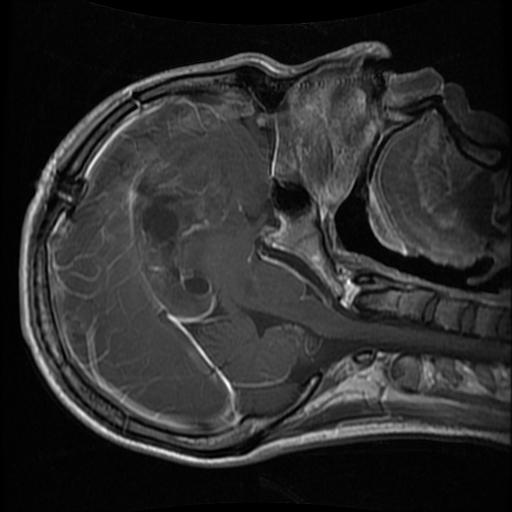glioma: (132, 174, 213, 301)
